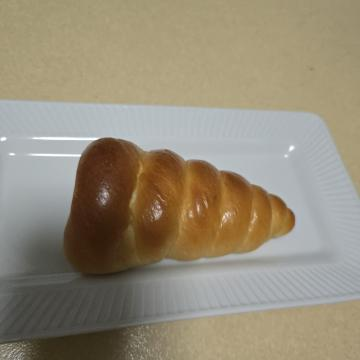cream horn: (122, 56, 300, 307)
